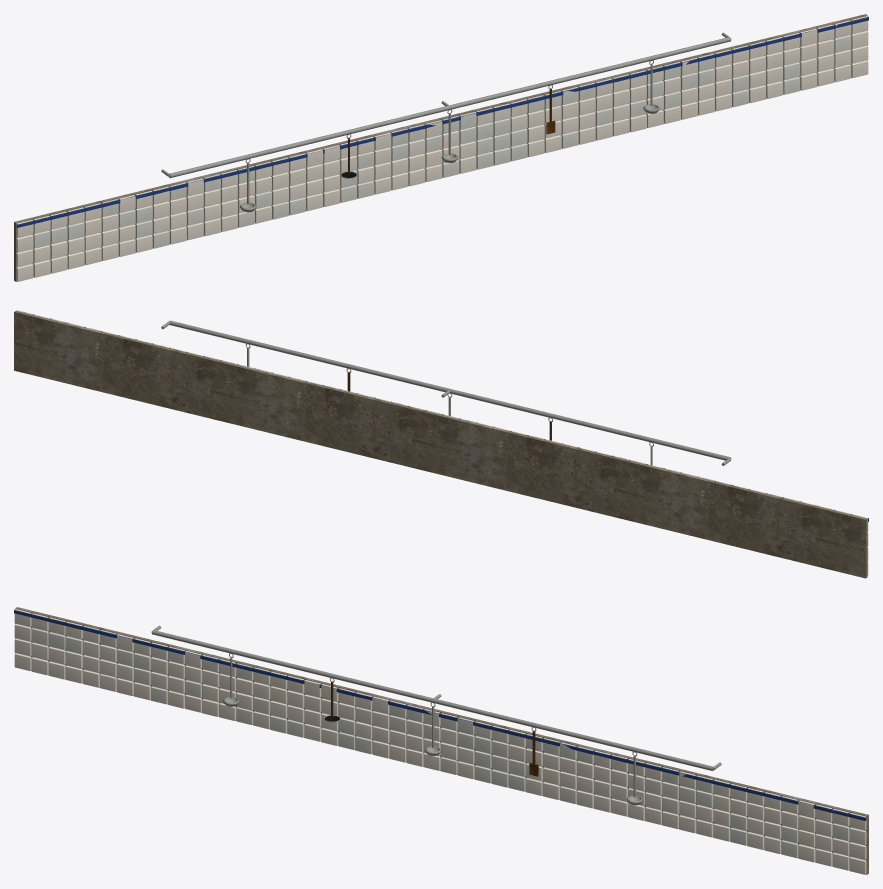
File: PROP_MorningWhite_Stove_Tile.glb
3 renders of one model, top to bottom at view 1: azimuth 30°, elevation 25°; view 2: azimuth 150°, elevation 25°; view 3: azimuth 330°, elevation 25°, orthographic.
Parts seen in each view (by area): view 1: PROP_MorningWhite_Stove_Tile; view 2: PROP_MorningWhite_Stove_Tile; view 3: PROP_MorningWhite_Stove_Tile.
Part boxes in pixels (left/top/right/bottom): PROP_MorningWhite_Stove_Tile: left=14, top=14, right=868, bottom=281; PROP_MorningWhite_Stove_Tile: left=14, top=310, right=868, bottom=578; PROP_MorningWhite_Stove_Tile: left=14, top=607, right=868, bottom=874.
Bounding box in the file's own units: 7.6 × 0.668 × 0.22.
Materials: 8 (8 with a texture image).
